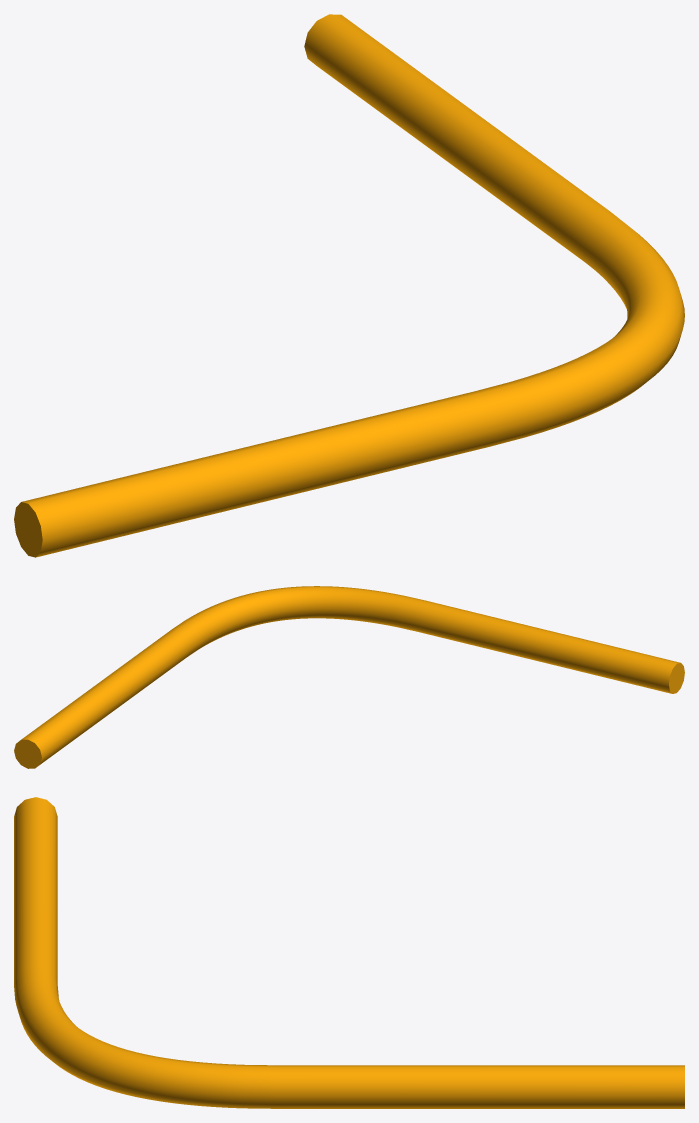
Rendered from CurvedBarrier_MESH.fbx.
3 views of the same model, one above another, from view 1: azimuth 30°, elevation 25°; view 2: azimuth 150°, elevation 25°; view 3: azimuth 270°, elevation 25° (orthographic). The views are drawn at different scales.
Parts seen in each view (by area): view 1: CurvedBarrier; view 2: CurvedBarrier; view 3: CurvedBarrier.
Part boxes in pixels (x1,y1,x2,y2): CurvedBarrier: (14, 14, 684, 557); CurvedBarrier: (14, 586, 684, 768); CurvedBarrier: (14, 797, 684, 1108).
Bounding box in the file's own units: 282 × 18.65 × 286.
1 material, 1 textured.
